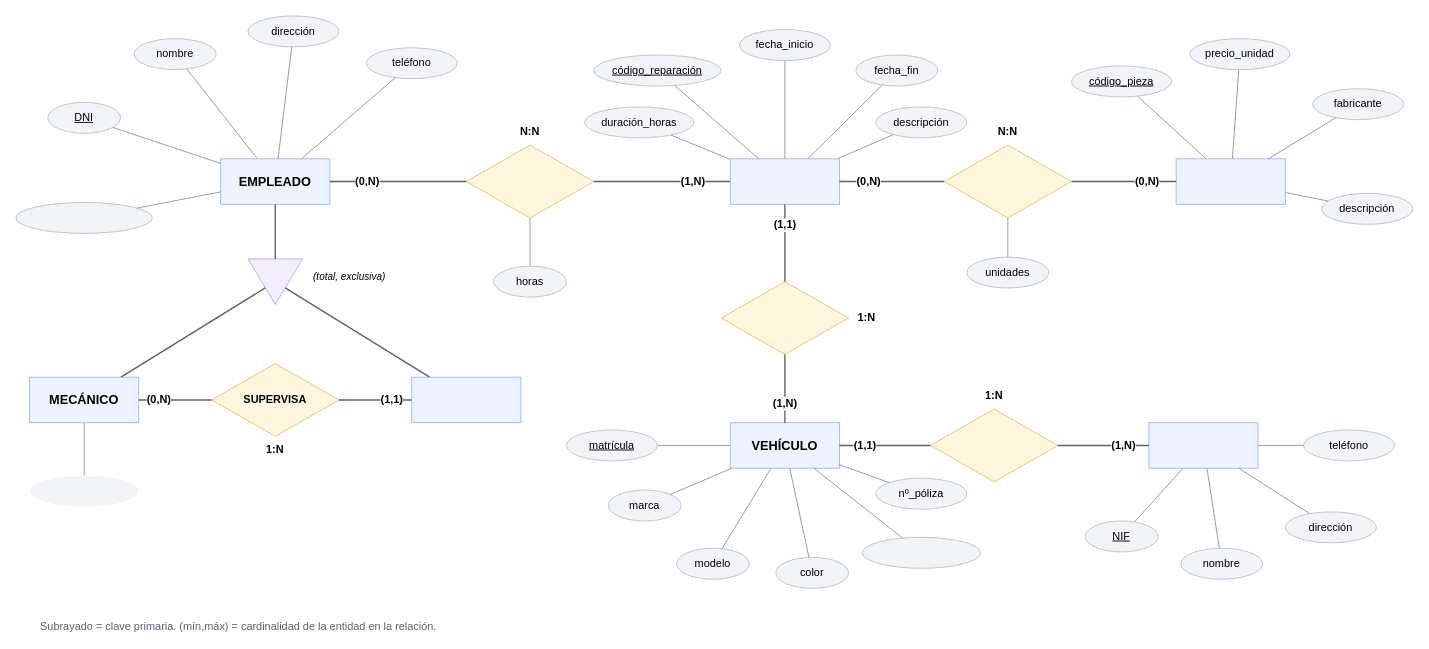
The diagram is 1429 pixels wide and 649 high, and some of its shapes have lost their labels. The centre of each missing label's shape, as x and y in pixels:
"APRENDIZ" goes at (x=466, y=399).
"CLIENTE" goes at (x=1203, y=445).
"compañía_seguro" goes at (x=921, y=552).
"especialidad" goes at (x=84, y=490).
"fecha_incorporación" goes at (x=83, y=217).
"ISA" goes at (x=275, y=281).
"PARTICIPA" goes at (x=529, y=181).
"PERTENECE" goes at (x=994, y=445).
"PIEZA" goes at (x=1230, y=181).
"REPARACIÓN" goes at (x=784, y=181).
"SUFRE" goes at (x=784, y=317).
"UTILIZA" goes at (x=1007, y=181).
